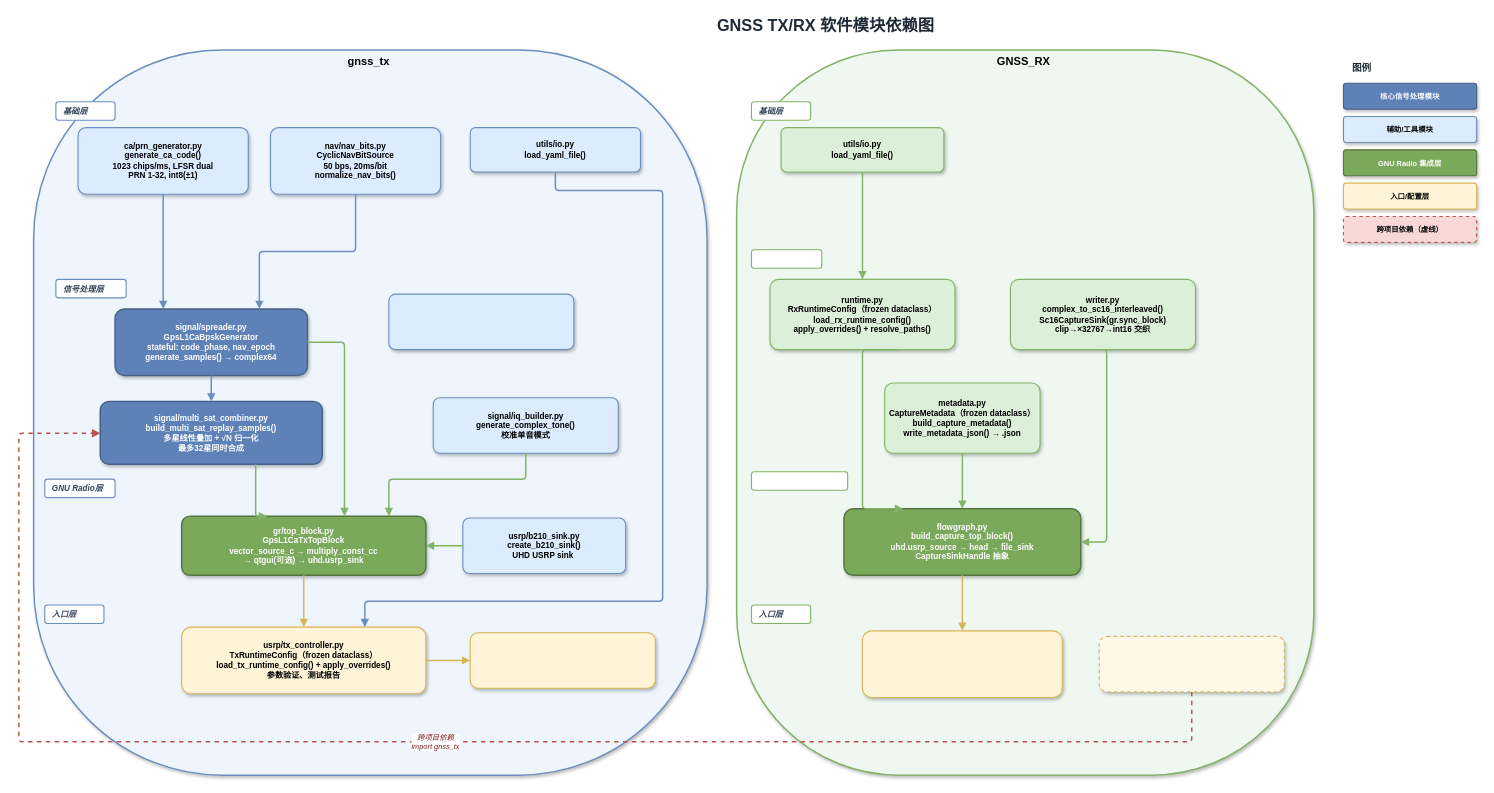
The diagram is 1494 pixels wide and 793 high, and some of its shapes have lost their labels. The shapes that lost their labels are listed below. From the top down, each one's centre as x and y in pixels, then its label:
At (x=786, y=258): "核心模块层".
At (x=482, y=322): "signal/modulator.py chips_to_complex_baseband() int8(±1) → complex64".
At (x=799, y=480): "顶层（GNU Radio）".
At (x=563, y=661): "scripts/run_tx.py CLI 主入口 --config --prn-ids --dry-run --duration".
At (x=963, y=665): "scripts/record_rx.py CLI 主入口 --config --prn-id --dry-run 单段 / 分块 (chunked) 采集".
At (x=1192, y=665): "scripts/gen_synthetic_capture.py 无硬件仿真入口 --snr-db --duration".
